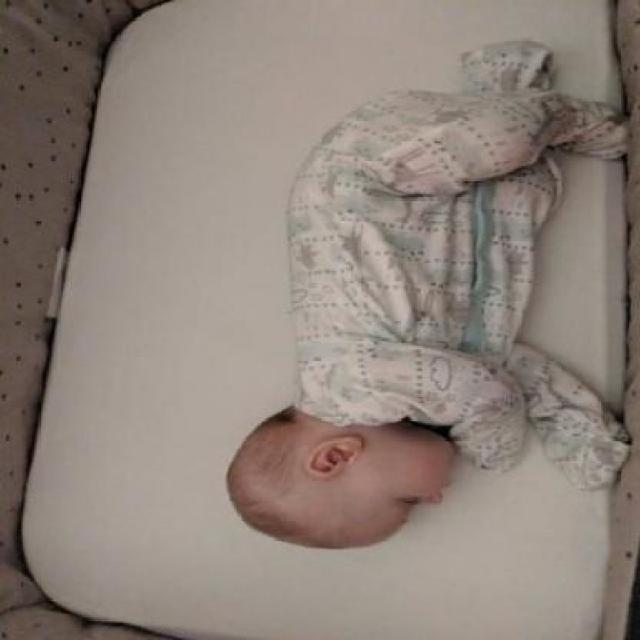child: (223, 37, 632, 553)
